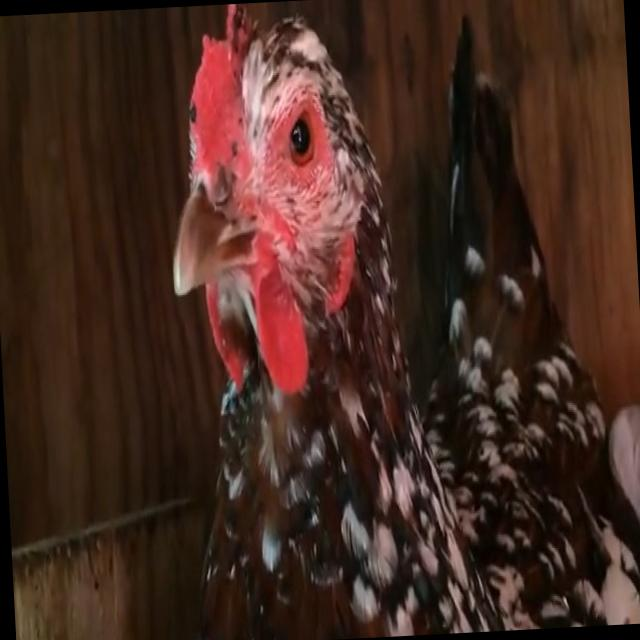menacing: (158, 0, 640, 640)
